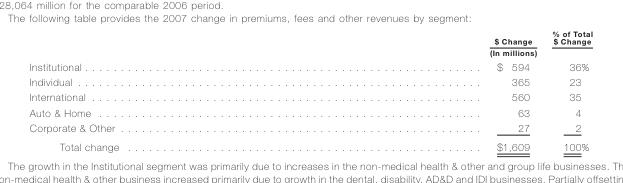table: (28, 28, 591, 151)
table column: (28, 28, 303, 151), (303, 28, 543, 151), (543, 28, 591, 151)
table column header: (28, 28, 591, 58)
table row: (28, 28, 591, 58), (28, 119, 591, 136), (28, 58, 591, 74), (28, 74, 591, 89), (28, 89, 591, 104), (28, 104, 591, 119), (28, 136, 591, 151)
